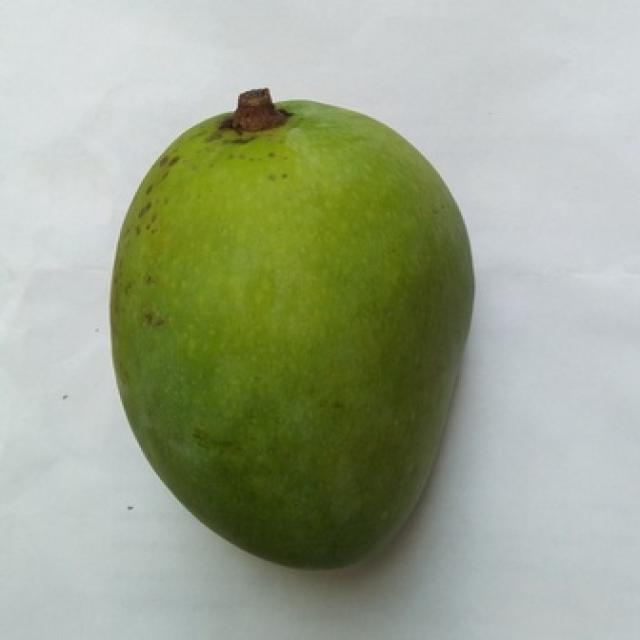Mango: (110, 101, 472, 566)
